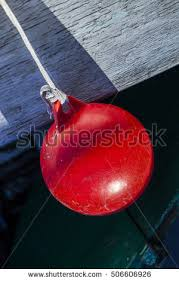buoy: (41, 104, 153, 216)
